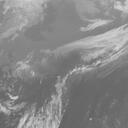cyclone: (40, 47, 88, 93)
